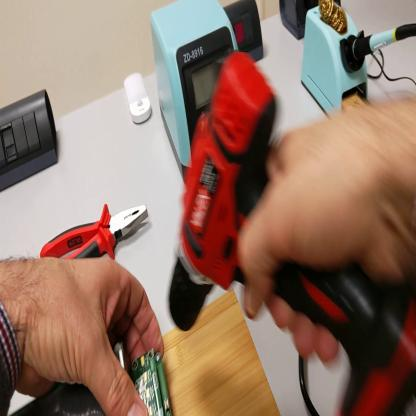electric screwdriver: (170, 52, 416, 416)
hand: (237, 102, 409, 369), (5, 256, 164, 416)
low voltage board: (15, 338, 173, 413)
pliers: (40, 198, 148, 260)
socket: (225, 4, 266, 62), (279, 2, 342, 38)
welder base: (300, 2, 372, 118)
welder probe tip: (348, 21, 416, 63)
welder station: (152, 2, 240, 189)
working area: (160, 286, 280, 412)
